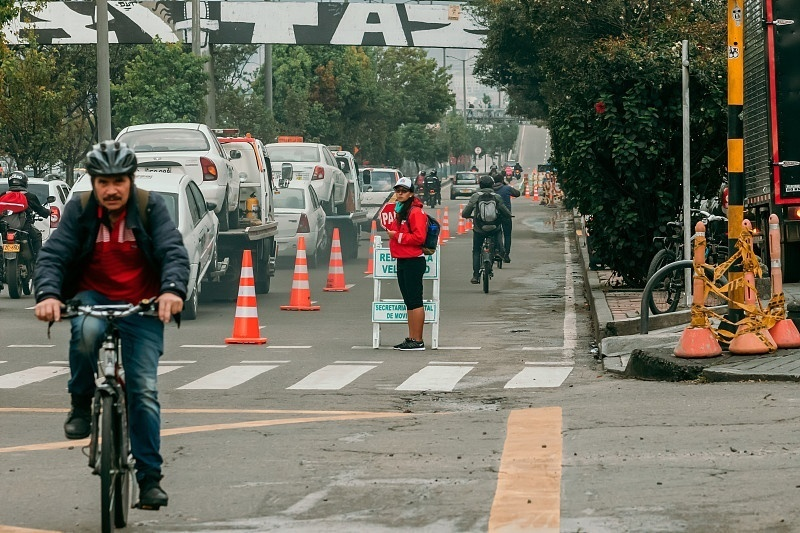non-vehicle: (58, 306, 166, 519), (0, 194, 52, 293), (472, 224, 504, 292)
